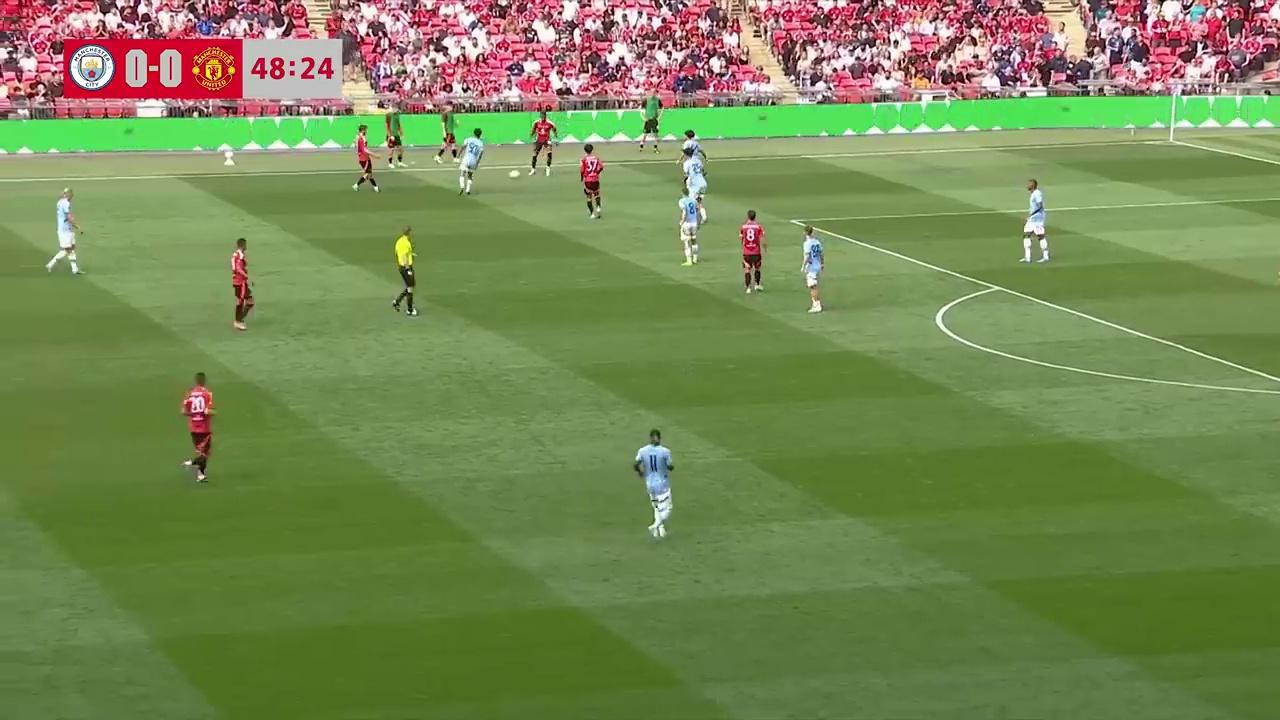ball: (506, 165, 521, 180)
player: (633, 428, 674, 540), (180, 371, 217, 483), (45, 193, 83, 275), (1020, 184, 1050, 264), (739, 210, 766, 294), (230, 237, 254, 331), (801, 225, 825, 313), (351, 120, 379, 192), (457, 126, 485, 195), (677, 189, 702, 265), (580, 149, 605, 219), (530, 107, 553, 176), (683, 151, 707, 206), (677, 130, 697, 169)
referee: (393, 225, 419, 316), (580, 149, 604, 219)
